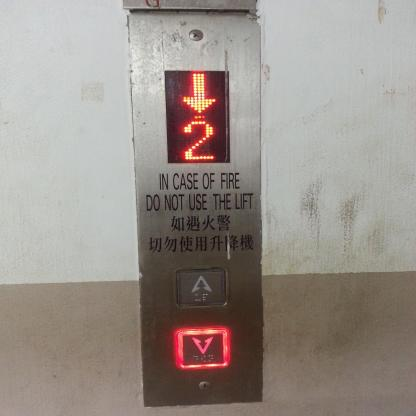down: (174, 323, 235, 373)
led: (166, 71, 233, 167)
up: (171, 266, 232, 311)
